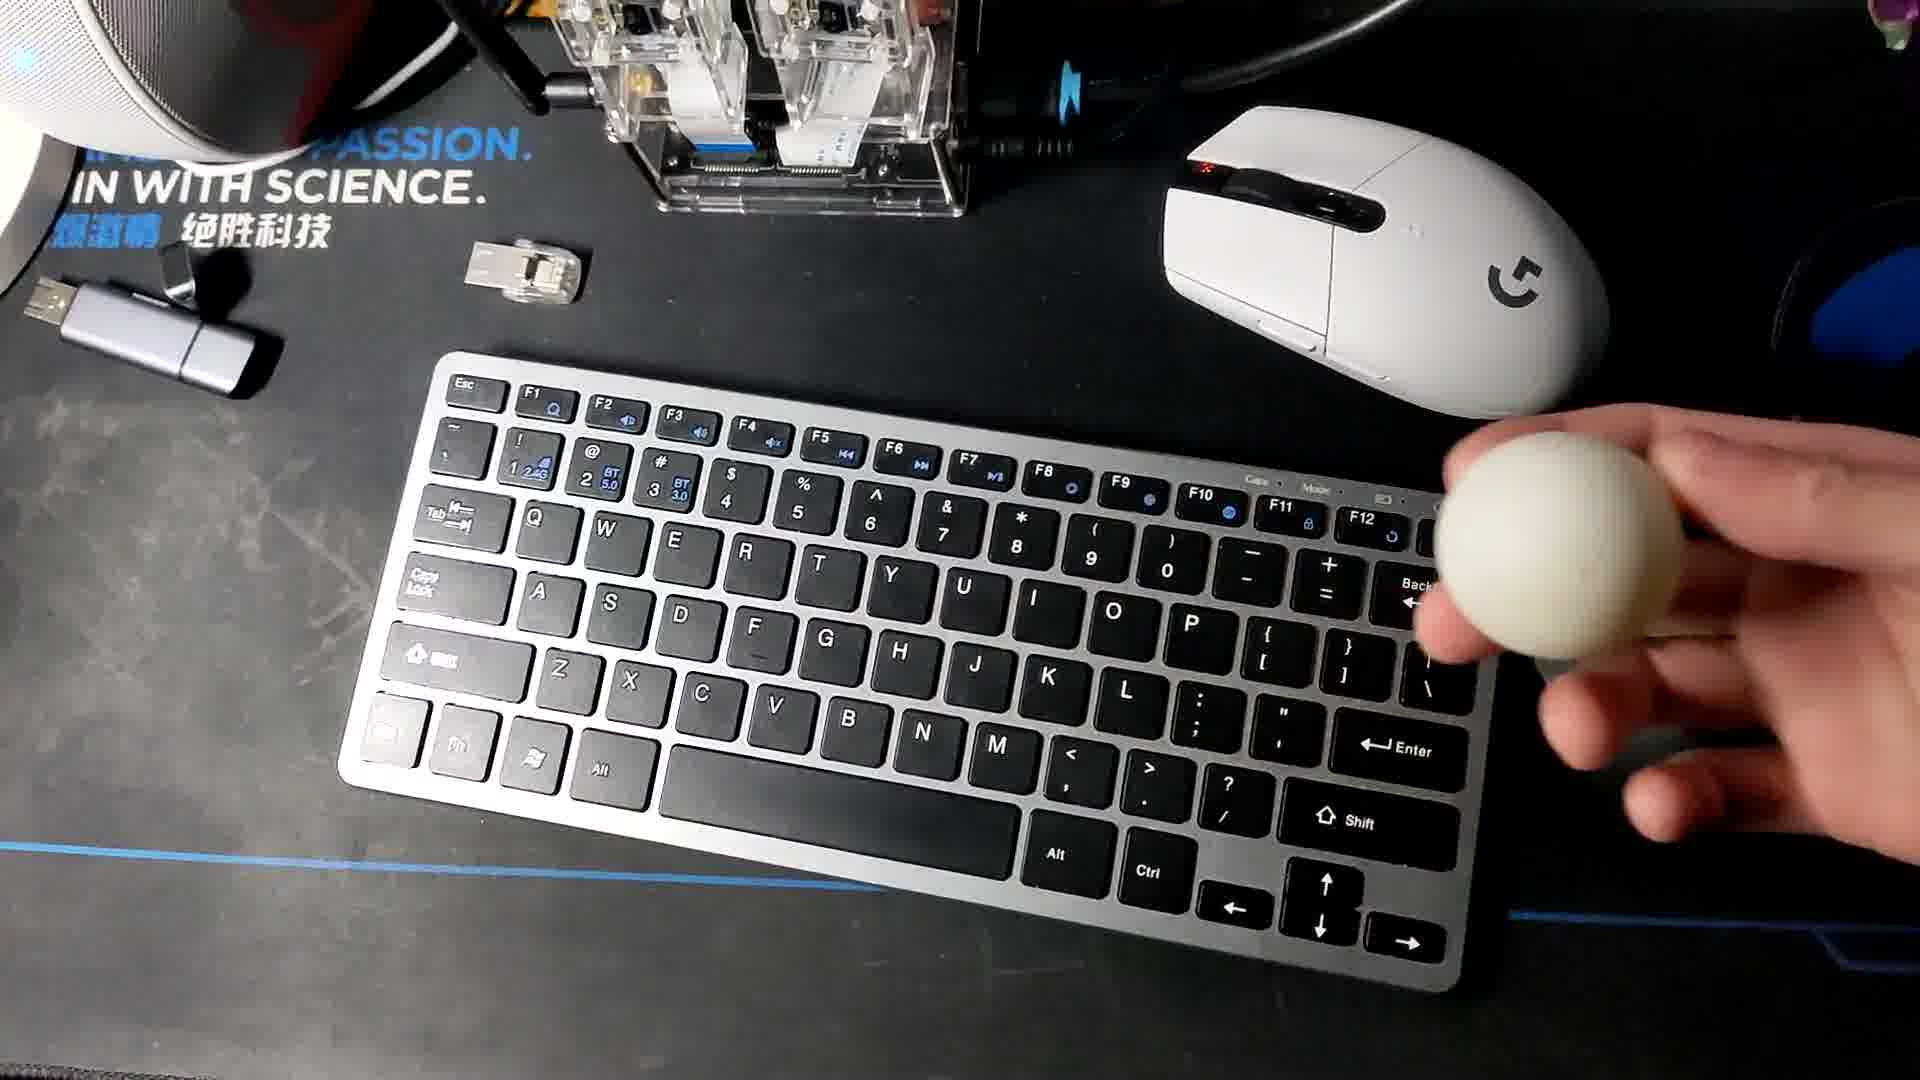Ball: (1425, 417, 1685, 676)
